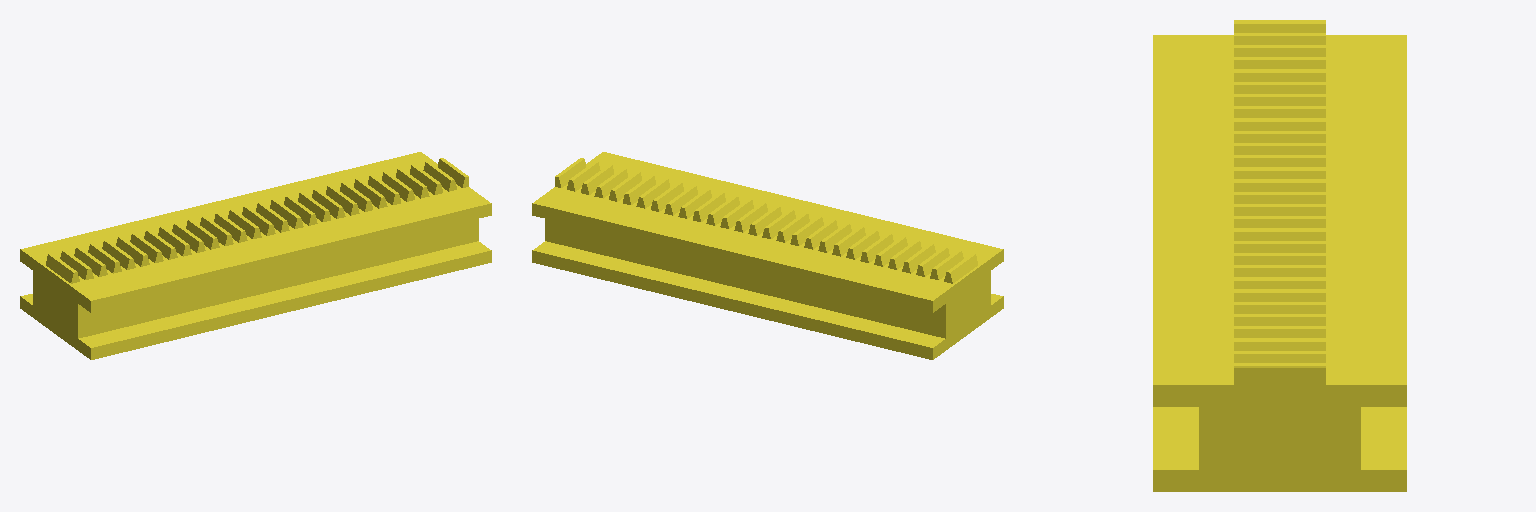
robot.urdf — robot_arm:
<?xml version="1.0"?>
<robot name = "robot_arm">


<!-- Dummy link to address KDL warning -->
<link name="dummy_link">
    <inertial>
        <mass value="1e-5"/>
        <inertia ixx="1e-10" ixy="0" ixz="0" iyy="1e-10" iyz="0" izz="1e-10"/>
    </inertial>
</link>

<joint name="fixed_joint" type="fixed">
    <parent link="dummy_link"/>
    <child link="base_link"/>
</joint>



<!-- base link -->
<link name = "base_link">
    <visual>
    <geometry>
	  <mesh filename="package://Project64/meshes/bese_link.STL" scale="1.5 1.5 1.5"/>

        
    </geometry>
    <origin xyz="0 280 355" rpy="1.67 2.25 0.07"/>
    </visual>

    <collision>
        <geometry>
		    <mesh filename="package://Project64/meshes/bese_link.STL" scale="1.5 1.5 1.5"/>

           
        </geometry>
        <origin xyz="0 0 0" rpy="0 0 0"/>
    </collision>

    <inertial>
        <origin xyz="0 0 0" rpy="0 0 0"/>
        <mass value="1"/>
        <inertia ixx="0.001" ixy="0" ixz= "0" iyy="0.001" iyz="0" izz="0.001"/>
    </inertial>
</link>

<!-- link 1 -->
<link name = "link1">
    <visual>
    <geometry>
	  <mesh filename="package://Project64/meshes/link.STL" scale="1.5 1.5 1.5"/>

        <!--cylinder length="0.1" radius="0.1"/--> 
    </geometry>
    <origin xyz="100 -100 15" rpy="0 0 1.55"/>
    <material name= "black">
        <color rgba="0 0 0 1"/>
    </material>
    </visual>

    <collision>
        <geometry>
		    <mesh filename="package://Project64/meshes/link.STL" scale="1.5 1.5 1.5"/>

            <!-- <cylinder length="0.1" radius="0.1"/>  -->
        </geometry>
        <origin xyz="0 0 0" rpy="0 0 0"/>
    </collision>

    <inertial>
        <origin xyz="0 0 0" rpy="0 0 0"/>
        <mass value="1"/>
        <inertia ixx="0.001" ixy="0" ixz= "0" iyy="0.001" iyz="0" izz="0.001"/>
    </inertial>
</link>

<!--joint1-->
<joint name="joint1" type="prismatic">
    <parent link="base_link"/>
    <child link="link1"/>
    <origin xyz="0 0 0.1" rpy="0 0 0"/>
    <axis xyz="0 1 0 " />
    <limit lower="-82.5" upper="82.5" effort="100" velocity="1"/>
</joint>
<!--link2-->
<link name = "link2">
    <visual>
    <geometry>
	  <mesh filename="package://Project64/meshes/link2.STL" scale="1.5 1.5 1.5"/>

        <!--cylinder length="0.1" radius="0.1"/--> 
    </geometry>
    <origin xyz="-110 -25 70" rpy="0 0 0"/>
    </visual>

    <collision>
        <geometry>
		    <mesh filename="package://Project64/meshes/link2.STL" scale="1.5 1.5 1.5"/>

            <!-- <cylinder length="0.1" radius="0.1"/>  -->
        </geometry>
        <origin xyz="0 0 0" rpy="0 0 0"/>
    </collision>

    <inertial>
        <origin xyz="0 0 0" rpy="0 0 0"/>
        <mass value="1"/>
        <inertia ixx="0.001" ixy="0" ixz= "0" iyy="0.001" iyz="0" izz="0.001"/>
    </inertial>
</link>
<!--joint2-->
<joint name="joint2" type="prismatic">
    <parent link="link1"/>
    <child link="link2"/>
    <origin xyz="0 0 0.1" rpy="0 0 0"/>
    <axis xyz="1 0 0 " />
    <limit lower="-55.0" upper="55.0" effort="100" velocity="1"/>
</joint>


</robot>

--- What the picture shows (computed from the rendered views, not written in the file) ---
3 views of the same robot in one strip: view 1: azimuth 30°, elevation 25°; view 2: azimuth 150°, elevation 25°; view 3: azimuth 270°, elevation 25° (orthographic).
Model robot_arm with 4 links and 3 joints (2 prismatic, 1 fixed), rooted at dummy_link, posed every joint at zero.
Visible links, largest first — view 1: link2; view 2: link2; view 3: link2.
Boxes of the visible links, x1,y1,x2,y2 form: link2: [20, 152, 491, 359]; link2: [532, 152, 1003, 359]; link2: [1153, 20, 1406, 491].
Size in the robot's own frame: 270 by 82.5 by 45 metres.
Meshes: 3 distinct files referenced, 1 mesh visuals loaded (1 binary STL); not drawn: 2 (reference not matched to a file when rendering).